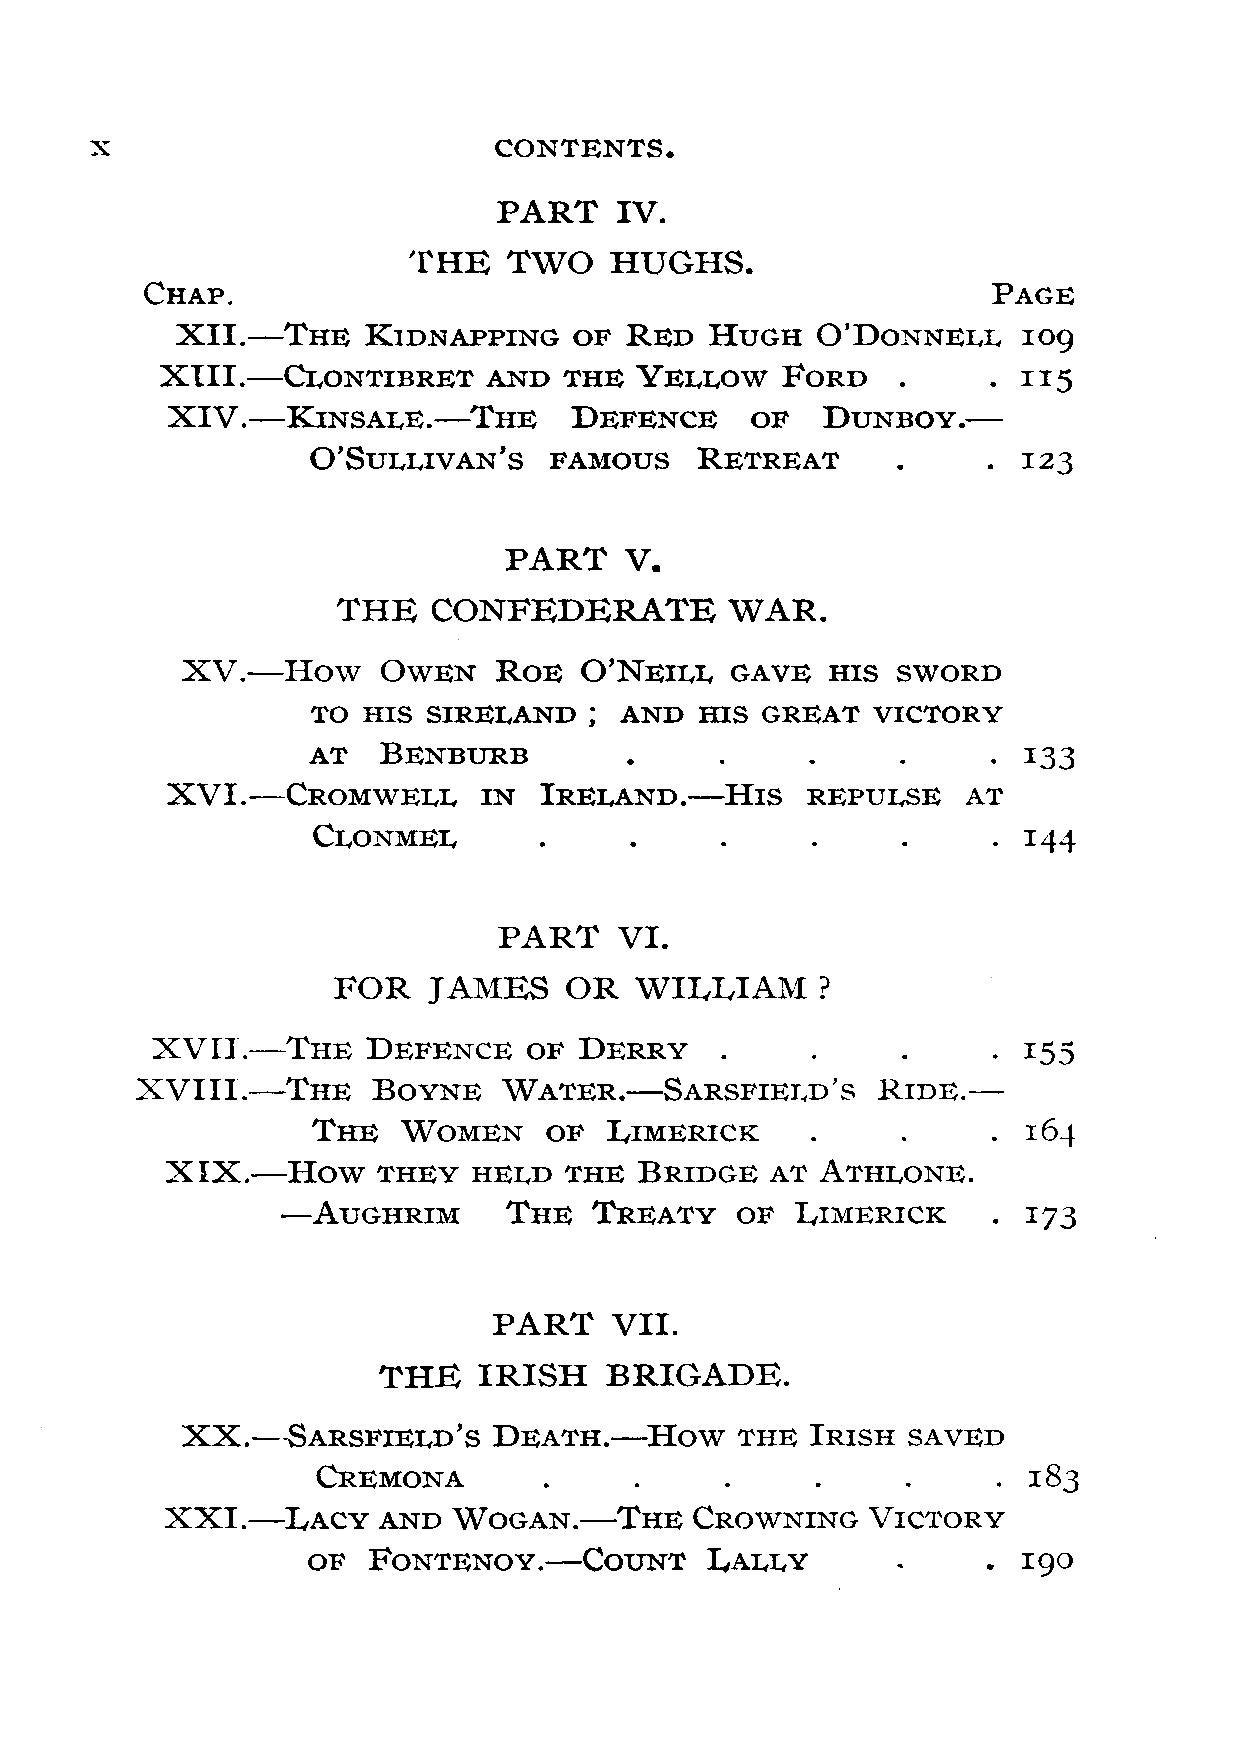TOC_chapter: (176, 650, 998, 772), (164, 774, 1008, 859), (162, 1502, 1008, 1580), (162, 1420, 1008, 1496), (160, 1157, 980, 1232), (134, 1078, 969, 1150), (162, 400, 962, 475), (335, 539, 825, 629), (323, 919, 836, 1001), (156, 311, 1006, 360), (370, 1303, 793, 1389), (400, 195, 754, 278), (153, 356, 871, 392), (141, 1031, 692, 1070)
TOC_pagenumber: (1019, 1029, 1079, 1078), (1023, 1108, 1083, 1154), (1024, 1190, 1082, 1235), (1020, 823, 1079, 866), (1027, 1457, 1086, 1499), (1020, 319, 1078, 358), (1020, 1543, 1079, 1581), (1019, 739, 1079, 776), (1019, 446, 1079, 476), (1015, 368, 1082, 393)
chapter: (482, 129, 680, 162)
